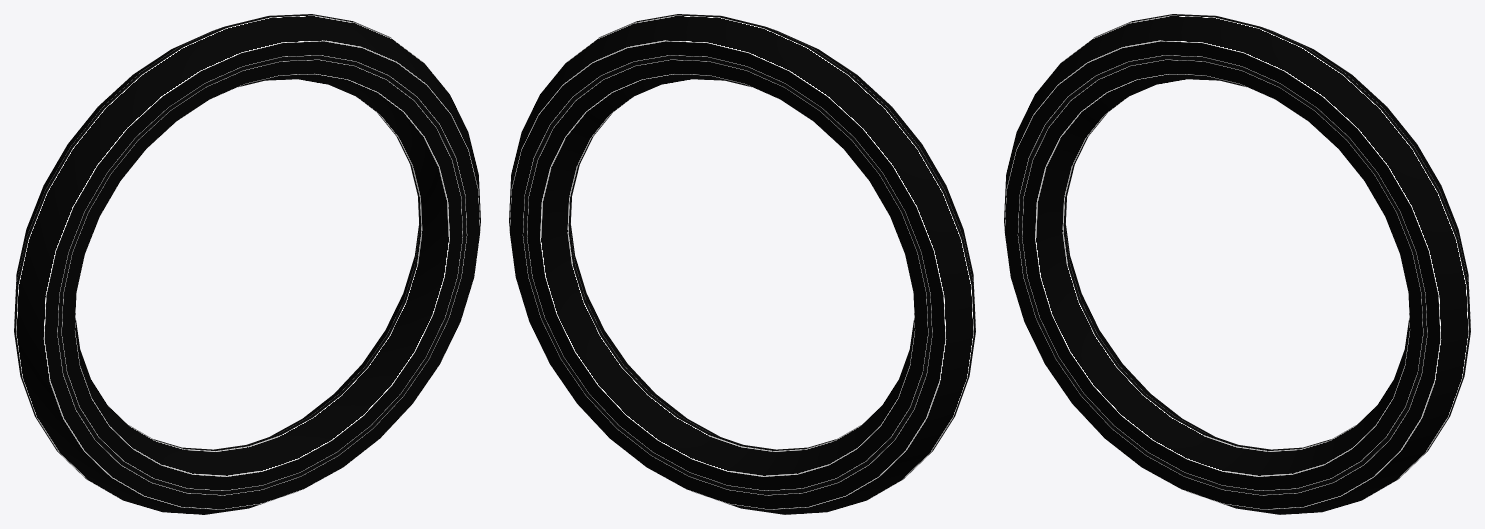
File: uxrzone_circle_rotating_ring_se02.glb
3 renders of one model, left to right at view 1: azimuth 30°, elevation 25°; view 2: azimuth 150°, elevation 25°; view 3: azimuth 330°, elevation 25°, orthographic.
Visible parts, largest first — view 1: torus_WorldGridMaterial_0_6, torus_Material2_0_7; view 2: torus_WorldGridMaterial_0_6, torus_Material2_0_7; view 3: torus_WorldGridMaterial_0_6, torus_Material2_0_7.
Part boxes in pixels (bbox=[...]): torus_WorldGridMaterial_0_6: bbox=[14, 15, 480, 514]; torus_Material2_0_7: bbox=[14, 14, 466, 495]; torus_WorldGridMaterial_0_6: bbox=[509, 15, 975, 514]; torus_Material2_0_7: bbox=[523, 14, 975, 495]; torus_WorldGridMaterial_0_6: bbox=[1004, 15, 1470, 514]; torus_Material2_0_7: bbox=[1018, 14, 1470, 495].
Size of the model in its own units: 462 by 461 by 51.07.
2 materials, 2 textured.
